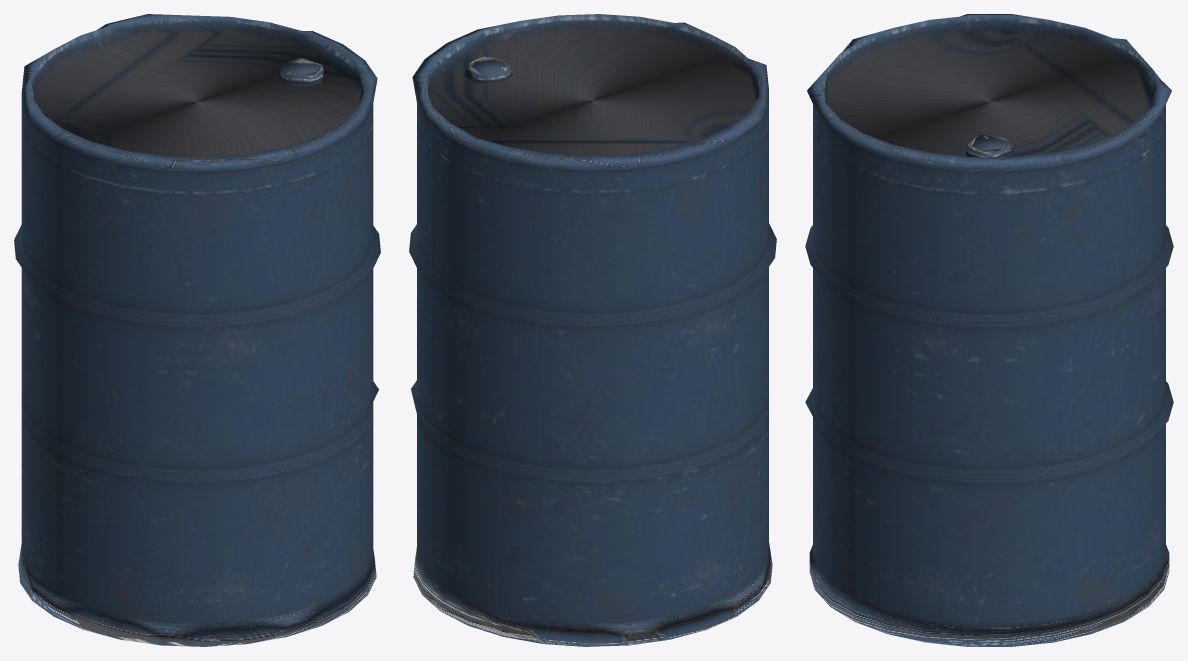
File: ph2_barrel_03.glb
3 views of the same model, side by side, from view 1: azimuth 30°, elevation 25°; view 2: azimuth 150°, elevation 25°; view 3: azimuth 270°, elevation 25° (orthographic).
Size of the model in its own units: 0.6339 by 0.9276 by 0.6386.
Materials: 1 (1 with a texture image).
